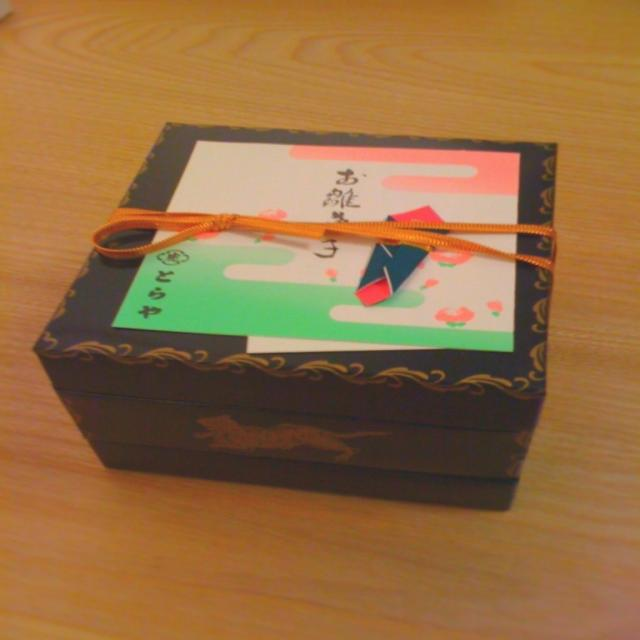Box: (31, 125, 558, 431), (55, 386, 538, 483), (85, 442, 524, 513)
